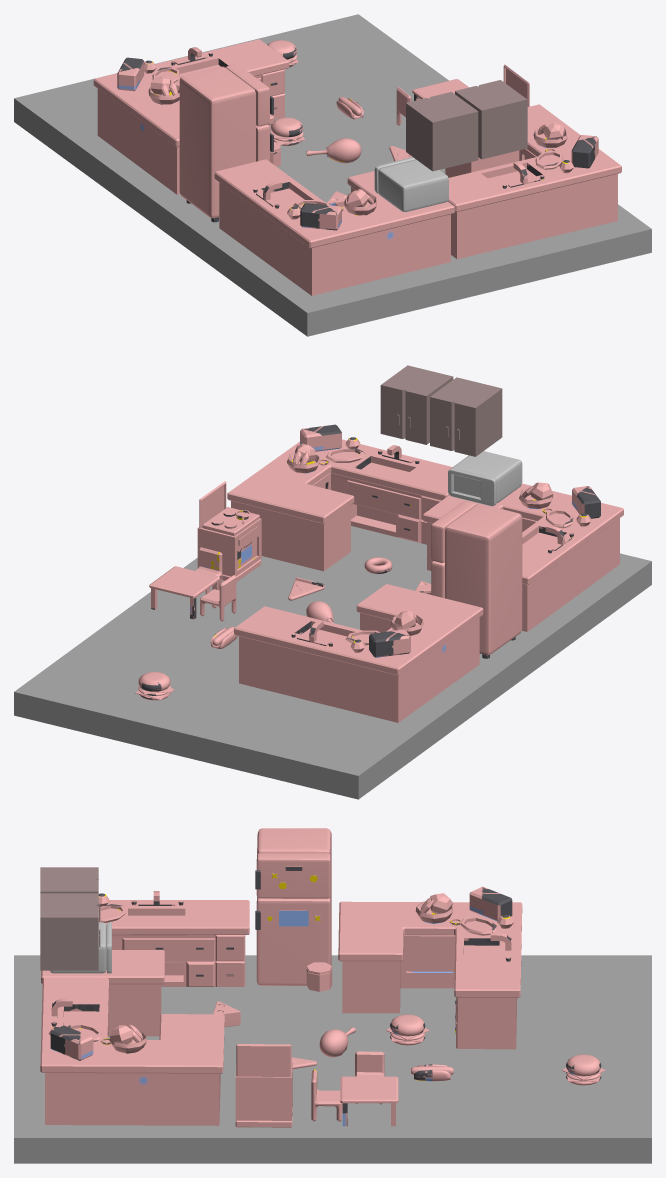
Rendered from 02_Cocina.fbx.
3 views of the same model, one above another, from view 1: azimuth 30°, elevation 25°; view 2: azimuth 150°, elevation 25°; view 3: azimuth 270°, elevation 25° (orthographic). The views are drawn at different scales.
Parts seen in each view (by area): view 1: pCube1, lavabo:Tostador1, Tostador1, Tostador2, Refri:Refri, Alacena:Alacena, Micro:Horno, Comedor:Mesita1, Pierna:pCube1, pCube8, Estufa:Sarten1; view 2: pCube1, Tostador2, Tostador1, lavabo:Tostador1, Refri:Refri, Alacena:Alacena, Estufa:Sarten1, Comedor:Mesita1, Micro:Horno, Hamburguesa:pCube8; view 3: pCube1, Tostador2, Tostador1, lavabo:Tostador1, Refri:Refri, Alacena:Alacena, Estufa:Sarten1, Comedor:Mesita1, pCube8, Hamburguesa:pCube8, Micro:Horno, Bote_de_basura:Bote_de_basura (+2 smaller).
Part boxes in pixels (x1,y1,x2,y2): pCube1: (14, 14, 651, 336); lavabo:Tostador1: (214, 159, 454, 295); Tostador1: (445, 104, 621, 259); Tostador2: (93, 39, 289, 194); Refri:Refri: (179, 64, 273, 222); Alacena:Alacena: (406, 80, 527, 171); Micro:Horno: (374, 157, 448, 212); Comedor:Mesita1: (396, 79, 468, 125); Pierna:pCube1: (306, 138, 361, 163); pCube8: (270, 117, 305, 145); Estufa:Sarten1: (503, 64, 529, 106); pCube1: (14, 526, 651, 799); Tostador2: (234, 584, 483, 722); Tostador1: (227, 424, 452, 571); lavabo:Tostador1: (423, 482, 623, 631); Refri:Refri: (431, 501, 522, 658); Alacena:Alacena: (380, 365, 502, 456); Estufa:Sarten1: (197, 481, 261, 581); Comedor:Mesita1: (149, 547, 236, 621); Micro:Horno: (448, 451, 522, 506); Hamburguesa:pCube8: (135, 672, 174, 700); pCube1: (14, 955, 651, 1163); Tostador2: (338, 886, 522, 1049); Tostador1: (40, 977, 224, 1125); lavabo:Tostador1: (41, 891, 249, 1036); Refri:Refri: (255, 828, 331, 985); Alacena:Alacena: (40, 867, 100, 970); Estufa:Sarten1: (235, 1044, 292, 1127); Comedor:Mesita1: (311, 1051, 398, 1126); pCube8: (386, 1014, 429, 1045); Hamburguesa:pCube8: (562, 1054, 605, 1085); Micro:Horno: (50, 922, 111, 973); Bote_de_basura:Bote_de_basura: (306, 962, 332, 991).
Bounding box in the file's own units: 14.71 × 7 × 21.7.
